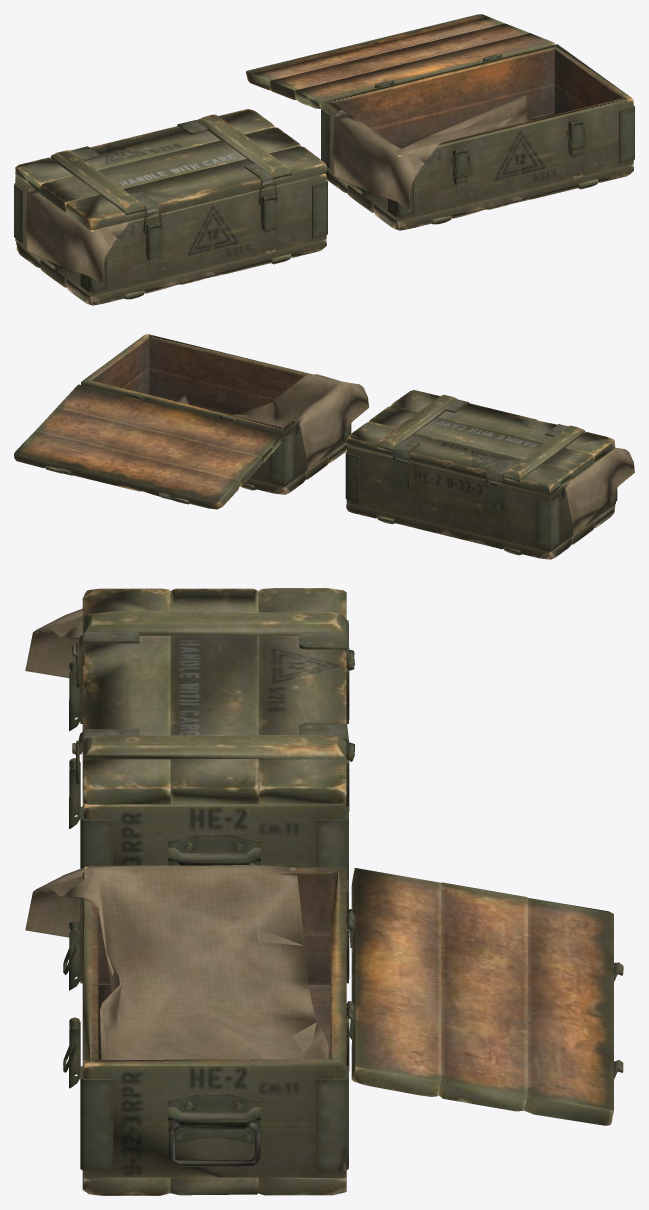
The model's file is old_military_crate.gltf.
3 views of the same model, one above another, from view 1: azimuth 30°, elevation 25°; view 2: azimuth 150°, elevation 25°; view 3: azimuth 270°, elevation 25° (orthographic). The views are drawn at different scales.
Parts seen in each view (by area): view 1: old_military_crate_b, old_military_crate_lid_a, old_military_crate_a, old_military_crate_lid_b, old_military_crate_cloth_b, old_military_crate_cloth_a, old_military_crate_latch_a, old_military_crate_latch_b; view 2: old_military_crate_lid_b, old_military_crate_lid_a, old_military_crate_a, old_military_crate_b, old_military_crate_cloth_b, old_military_crate_cloth_a; view 3: old_military_crate_lid_a, old_military_crate_lid_b, old_military_crate_b, old_military_crate_cloth_b, old_military_crate_a, old_military_crate_cloth_a, old_military_crate_latch_b, old_military_crate_latch_a.
Part boxes in pixels (x1=…): old_military_crate_b: x1=321, y1=44, x2=634, y2=230; old_military_crate_lid_a: x1=15, y1=109, x2=326, y2=230; old_military_crate_a: x1=14, y1=173, x2=327, y2=305; old_military_crate_lid_b: x1=246, y1=14, x2=554, y2=108; old_military_crate_cloth_b: x1=333, y1=95, x2=532, y2=209; old_military_crate_cloth_a: x1=25, y1=187, x2=129, y2=284; old_military_crate_latch_a: x1=146, y1=194, x2=276, y2=261; old_military_crate_latch_b: x1=453, y1=119, x2=583, y2=186; old_military_crate_lid_b: x1=14, y1=384, x2=282, y2=509; old_military_crate_lid_a: x1=346, y1=390, x2=615, y2=495; old_military_crate_a: x1=345, y1=446, x2=617, y2=559; old_military_crate_b: x1=81, y1=334, x2=351, y2=494; old_military_crate_cloth_b: x1=176, y1=374, x2=369, y2=470; old_military_crate_cloth_a: x1=562, y1=447, x2=634, y2=535; old_military_crate_lid_a: x1=71, y1=588, x2=354, y2=804; old_military_crate_lid_b: x1=346, y1=868, x2=623, y2=1125; old_military_crate_b: x1=80, y1=866, x2=354, y2=1195; old_military_crate_cloth_b: x1=25, y1=865, x2=329, y2=1059; old_military_crate_a: x1=80, y1=620, x2=354, y2=882; old_military_crate_cloth_a: x1=25, y1=608, x2=82, y2=677; old_military_crate_latch_b: x1=69, y1=920, x2=80, y2=1088; old_military_crate_latch_a: x1=69, y1=660, x2=80, y2=828.
Size of the model in its own units: 1.81 by 0.3009 by 0.9753.
Materials: 1 (1 with a texture image).
